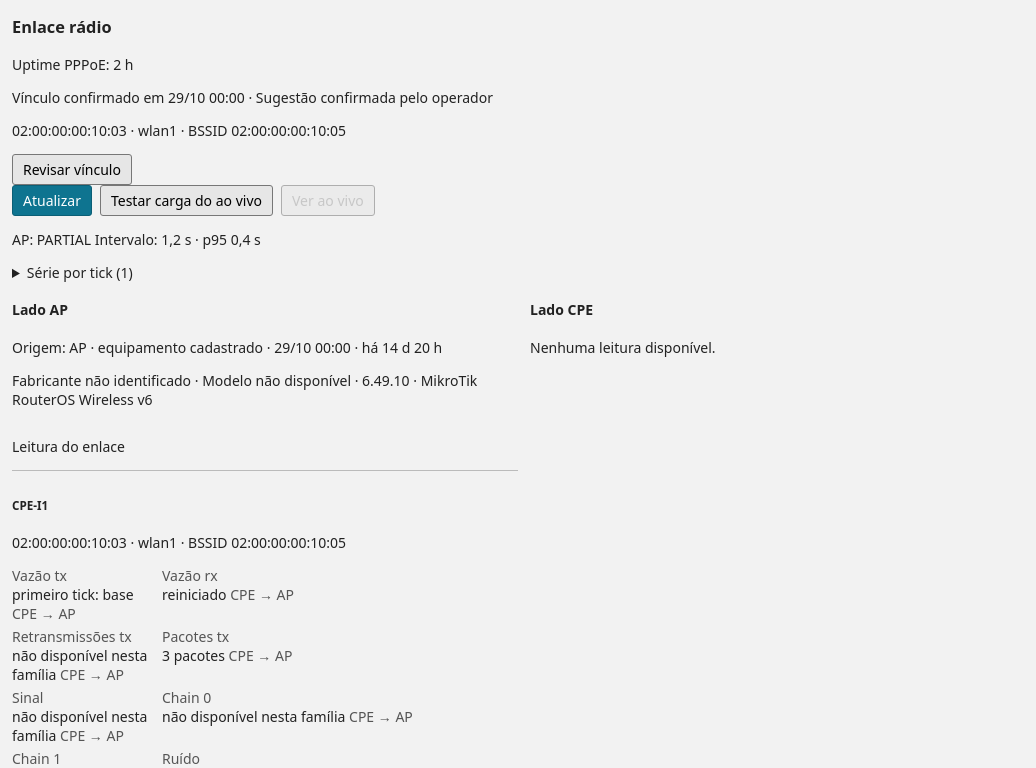
Test case: renders tick failures and explicit rate states without turning absence or reset into zero
The width and height of the screenshot is (1036, 768).
Click the heading "Série por tick (1)" at (80, 272), box [27,263,133,282]
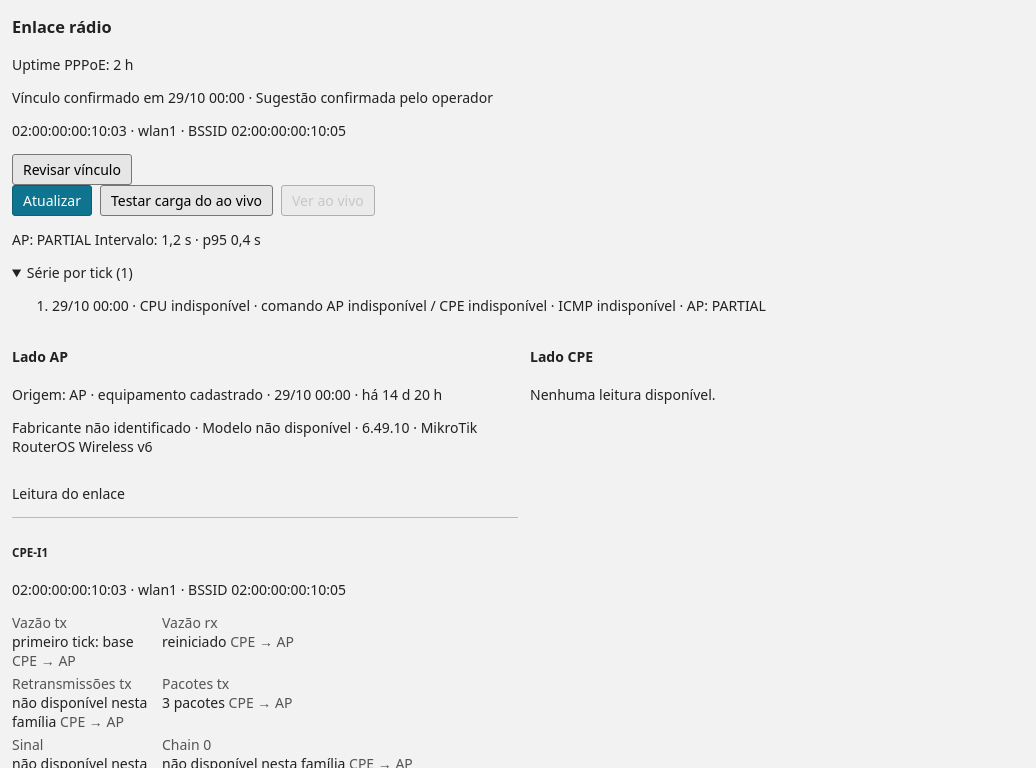
Now the list named "Recibo dos ticks" shows "CPU indisponível", box [52,296,766,315]
Now the list named "Recibo dos ticks" shows "ICMP indisponível", box [52,296,766,315]
Now the list named "Recibo dos ticks" shows "AP: PARTIAL", box [687,296,766,315]
